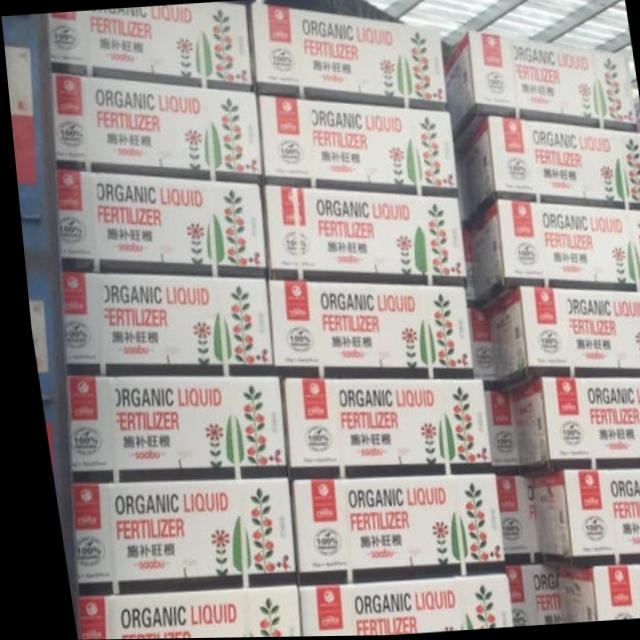box: (60, 478, 285, 585), (47, 73, 258, 178), (49, 169, 262, 269), (53, 271, 270, 369), (58, 377, 277, 474), (282, 475, 494, 575), (443, 31, 635, 137), (252, 3, 447, 105), (274, 377, 484, 470), (257, 94, 454, 192), (259, 185, 461, 278), (263, 280, 465, 370), (460, 118, 640, 218), (46, 3, 252, 85), (469, 201, 640, 299), (478, 289, 640, 382), (287, 575, 501, 637), (501, 378, 640, 471), (62, 585, 287, 640), (520, 470, 640, 559), (546, 565, 640, 625), (493, 564, 556, 627), (487, 478, 528, 557), (476, 392, 511, 468), (463, 309, 490, 383)
